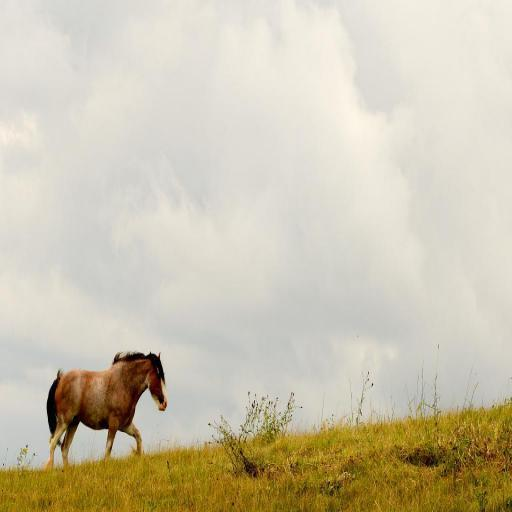horse: (46, 346, 170, 470)
